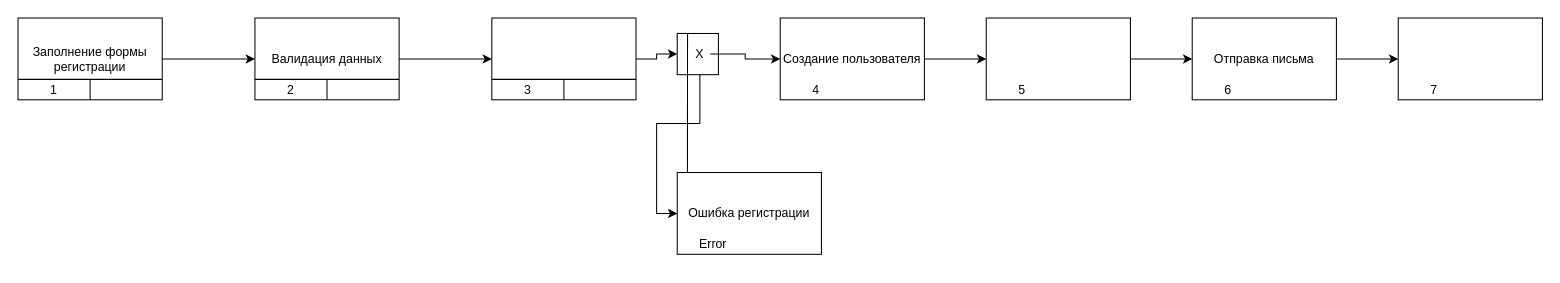
The diagram is 1560 pixels wide and 283 high, and some of its shapes have lost their labels. Here are the shapes that lost their labels. From the top down, the box of each, then its label:
(491, 17, 636, 100): Проверка уникальности email
(985, 17, 1130, 100): Генерация токена активации
(1397, 17, 1542, 100): Активация аккаунта
